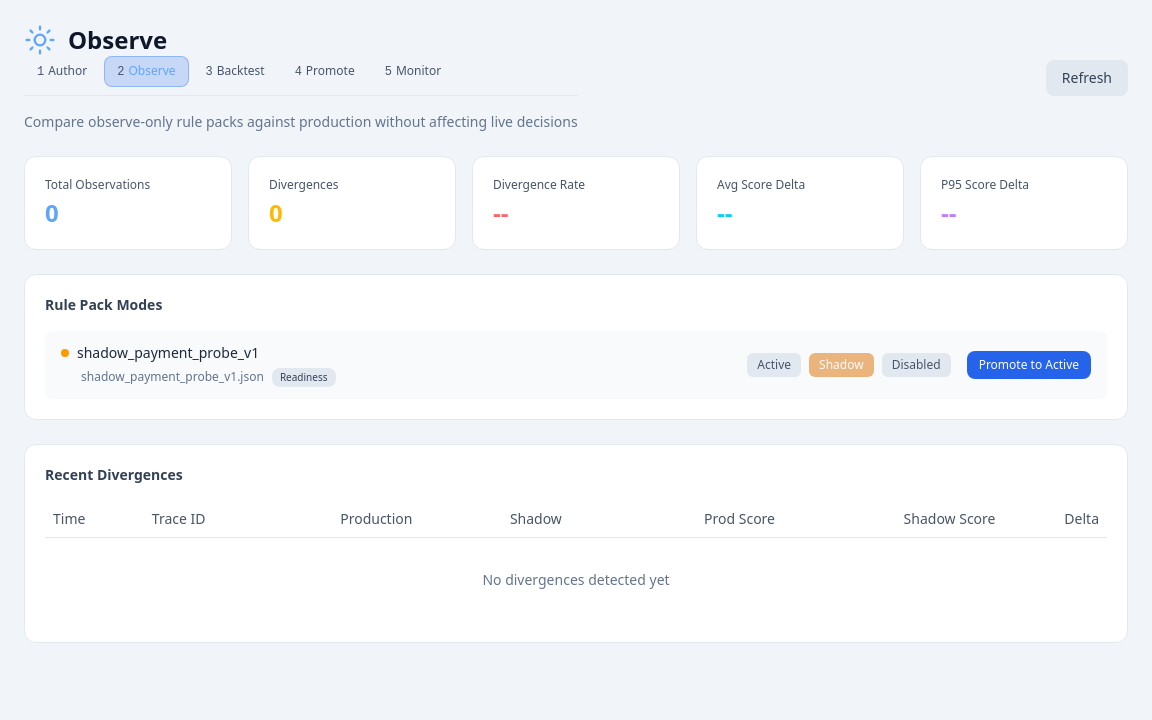
Test: Observe pack modes › lists shadow packs and promotes via setPackMode after confirm
This screenshot has width=1152, height=720.
Expected: the text "shadow_payment_probe_v1.json" is shown, [81,368,264,385]
Click the button "Promote to Active".
click(1029, 365)  # box [967,351,1091,379]
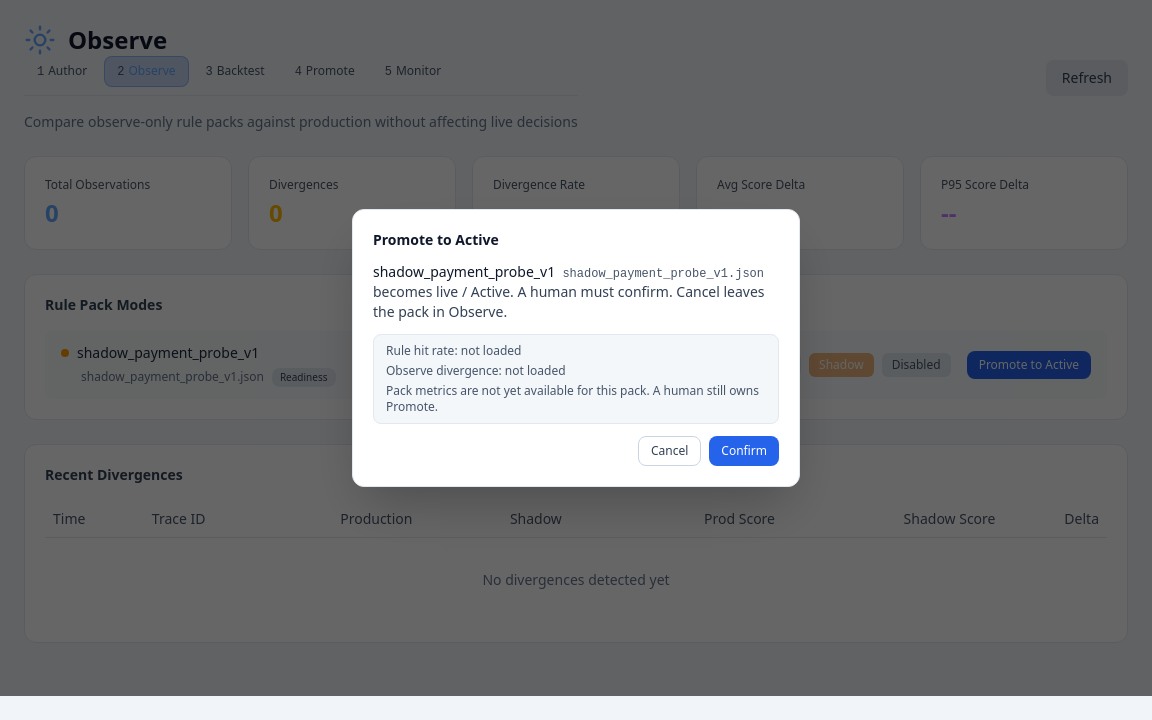
Expected: the dialog "Promote to Active" shows "shadow_payment_probe_v1", [373,262,555,281]
Expected: the dialog "Promote to Active" shows "becomes live", [373,282,765,321]
Expected: the dialog "Promote to Active" is shown, [373,230,499,249]
Click the button "Confirm".
click(744, 451)  # box [709,436,779,466]
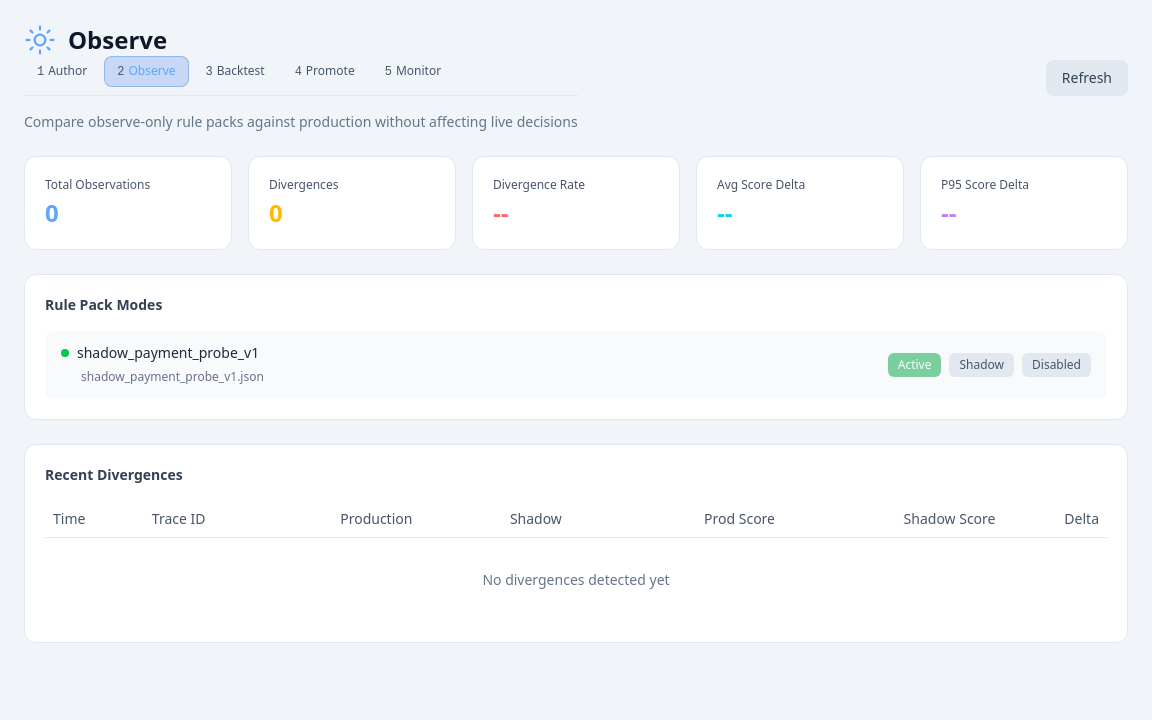
Expected: the heading "Promote to Active" is gone
Expected: the button "Active" is disabled, [888,353,941,377]
